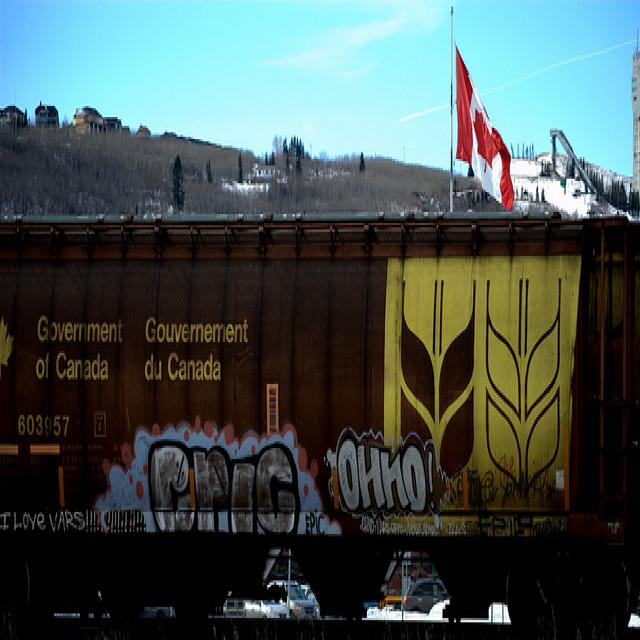Vehicle: (264, 581, 320, 621), (400, 577, 455, 610), (243, 600, 291, 619)
